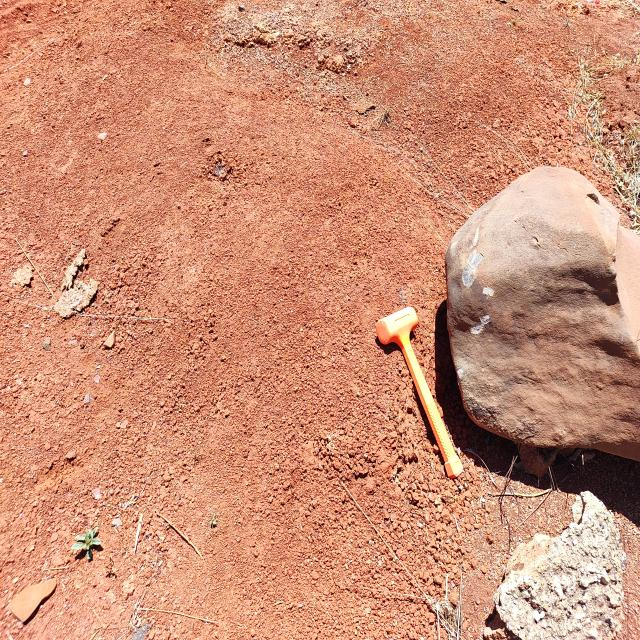Orange_hammer: (375, 306, 463, 478)
